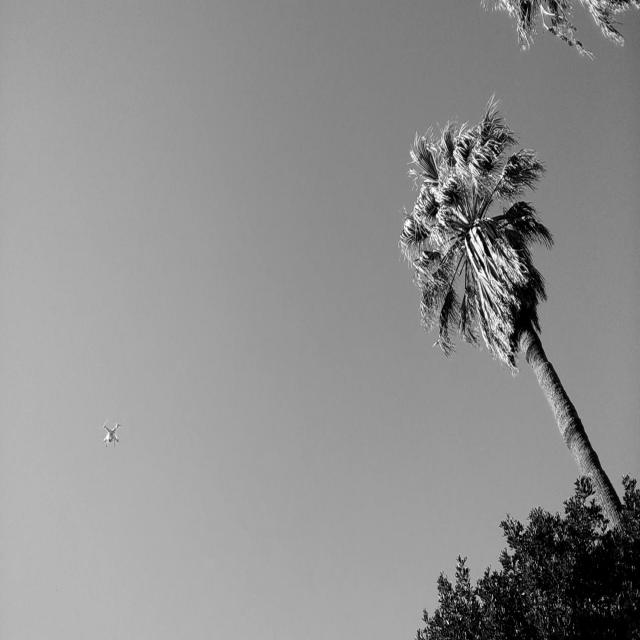drone: (99, 416, 126, 446)
